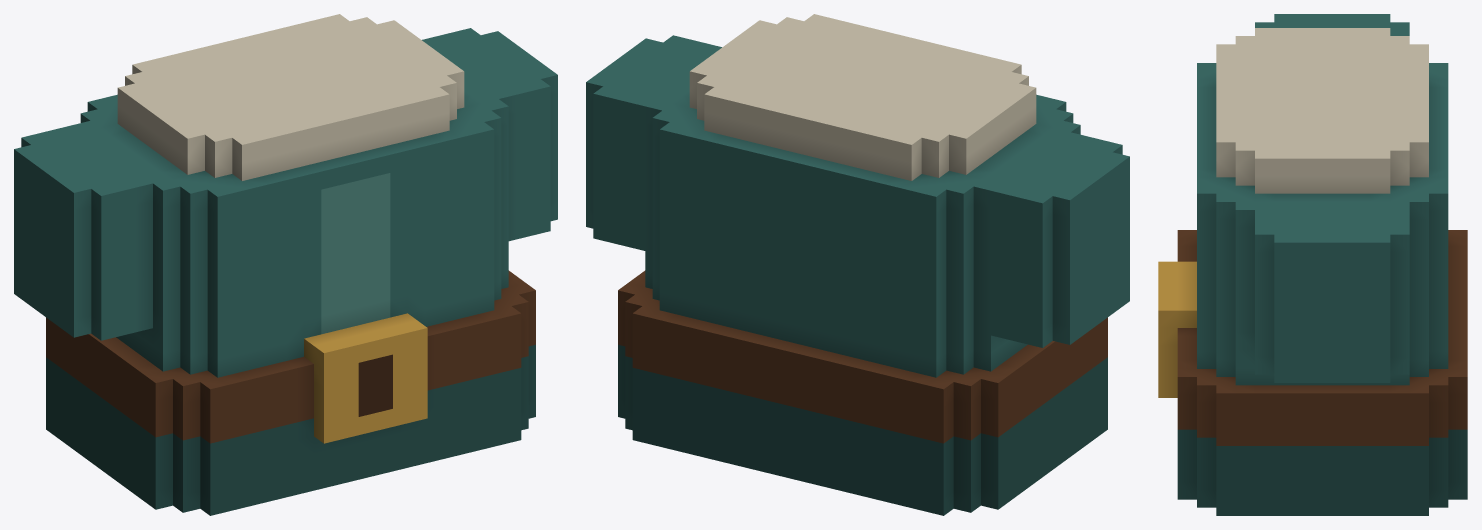
The model's file is body_base.glb.
3 views of the same model, side by side, from view 1: azimuth 30°, elevation 25°; view 2: azimuth 150°, elevation 25°; view 3: azimuth 270°, elevation 25° (orthographic). The views are drawn at different scales.
Visible parts, largest first — view 1: VoxelVisual; view 2: VoxelVisual; view 3: VoxelVisual.
Part boxes in pixels (x1=…): VoxelVisual: x1=14, y1=14, x2=557, y2=515; VoxelVisual: x1=586, y1=14, x2=1129, y2=515; VoxelVisual: x1=1158, y1=14, x2=1467, y2=515.
Size of what is drawn, in the model's own units: 1.75 by 1.25 by 1.
